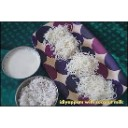idiyappam: (48, 24, 77, 56), (79, 74, 117, 98), (20, 81, 53, 106), (65, 54, 99, 77)
